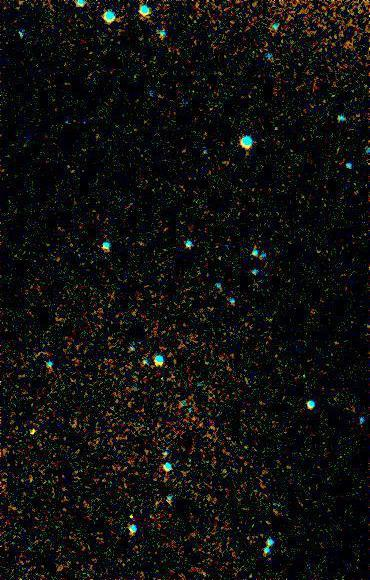star: (18, 416, 48, 446)
